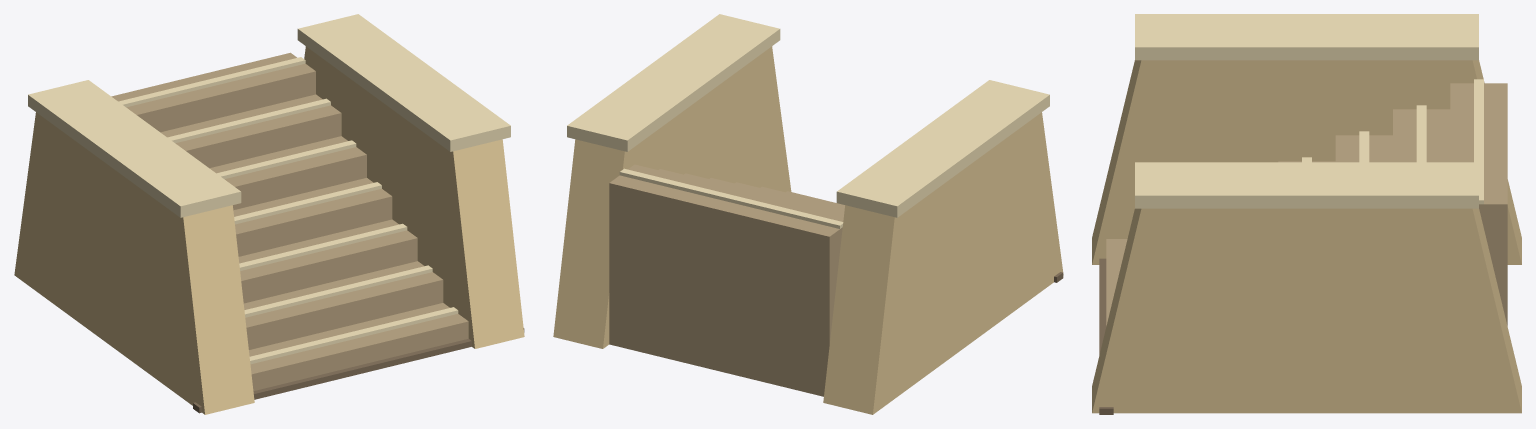
Rendered from stairs_small.fbx.
3 renders of one model, left to right at view 1: azimuth 30°, elevation 25°; view 2: azimuth 150°, elevation 25°; view 3: azimuth 270°, elevation 25°, orthographic. The views are drawn at different scales.
Visible parts, largest first — view 1: stairs_small; view 2: stairs_small; view 3: stairs_small.
Boxes of the visible parts, x1=… form: stairs_small: x1=14, y1=14, x2=524, y2=414; stairs_small: x1=553, y1=14, x2=1063, y2=414; stairs_small: x1=1092, y1=14, x2=1521, y2=414.
Bounding box in the file's own units: 6 × 3.4 × 6.
1 material, 1 textured.
